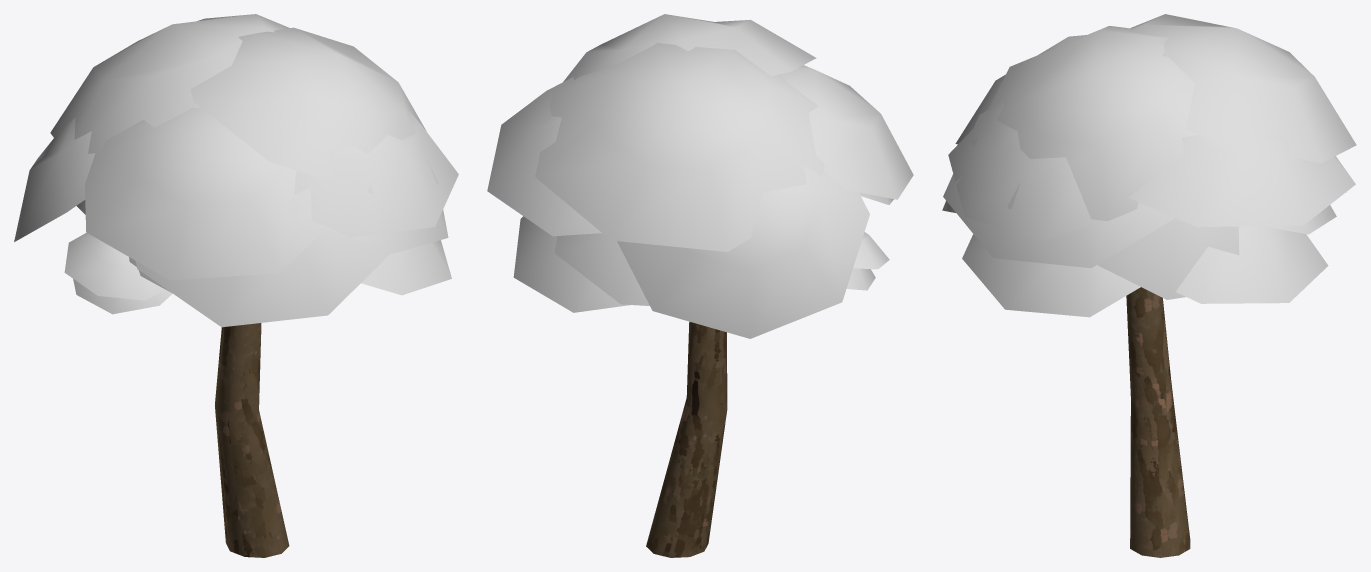
The model's file is Tree_1.glb.
3 renders of one model, left to right at view 1: azimuth 30°, elevation 25°; view 2: azimuth 150°, elevation 25°; view 3: azimuth 270°, elevation 25°, orthographic.
Parts seen in each view (by area): view 1: Tree_1; view 2: Tree_1; view 3: Tree_1.
Part boxes in pixels (left/top/right/bottom): Tree_1: left=14, top=14, right=458, bottom=557; Tree_1: left=487, top=14, right=913, bottom=557; Tree_1: left=942, top=14, right=1356, bottom=557.
Bounding box in the file's own units: 2.07 × 2.77 × 2.07.
Materials: 2 (1 with a texture image).
